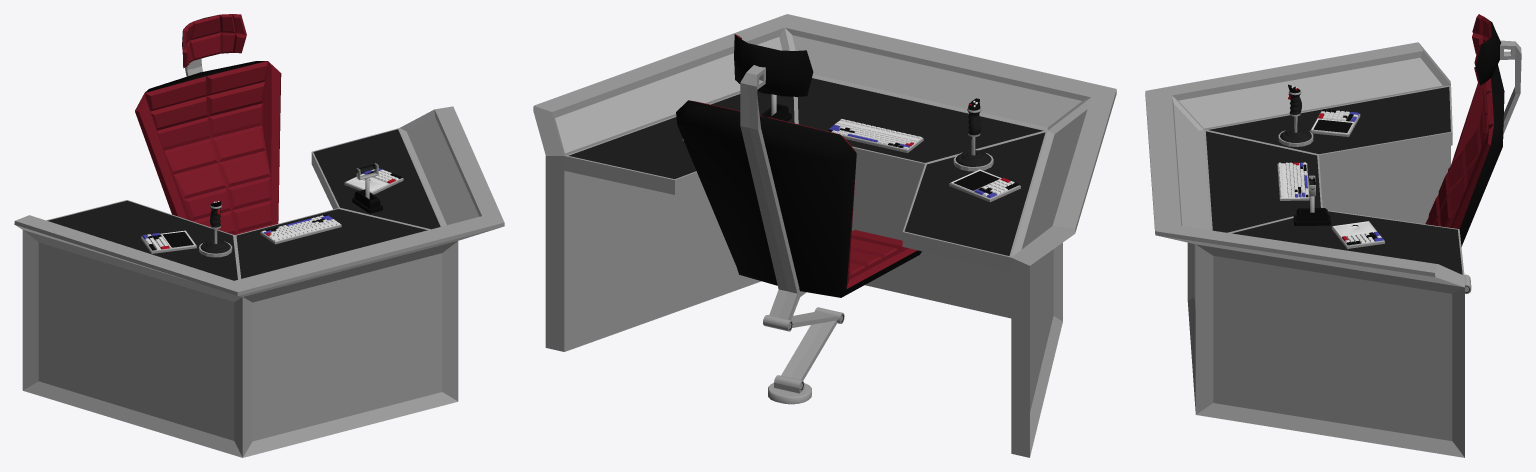
File: PilotSeat.glb
3 views of the same model, side by side, from view 1: azimuth 30°, elevation 25°; view 2: azimuth 150°, elevation 25°; view 3: azimuth 270°, elevation 25° (orthographic). The views are drawn at different scales.
Visible parts, largest first — view 1: Table, Chair, Keyboard_big, Keyboard_small_touchpad, Joystik, Throttle, Keyboard_small_trackball; view 2: Table, Chair, Keyboard_big, Keyboard_small_touchpad, Joystik; view 3: Table, Chair, Keyboard_big, Keyboard_small_touchpad, Keyboard_small_trackball, Joystik, Throttle.
Part boxes in pixels (x1=…): Table: x1=14, y1=106, x2=504, y2=457; Chair: x1=135, y1=14, x2=281, y2=234; Keyboard_big: x1=260, y1=214, x2=341, y2=244; Keyboard_small_touchpad: x1=141, y1=230, x2=196, y2=253; Joystik: x1=199, y1=200, x2=232, y2=257; Throttle: x1=352, y1=163, x2=382, y2=213; Keyboard_small_trackball: x1=344, y1=168, x2=403, y2=194; Table: x1=533, y1=14, x2=1116, y2=457; Chair: x1=676, y1=34, x2=921, y2=404; Keyboard_big: x1=827, y1=119, x2=923, y2=152; Keyboard_small_touchpad: x1=949, y1=169, x2=1020, y2=202; Joystik: x1=953, y1=98, x2=993, y2=171; Table: x1=1145, y1=42, x2=1464, y2=457; Chair: x1=1425, y1=14, x2=1521, y2=293; Keyboard_big: x1=1277, y1=162, x2=1309, y2=200; Keyboard_small_touchpad: x1=1310, y1=109, x2=1360, y2=136; Keyboard_small_trackball: x1=1331, y1=221, x2=1384, y2=248; Joystik: x1=1278, y1=84, x2=1313, y2=146; Throttle: x1=1293, y1=175, x2=1330, y2=225.
Bounding box in the file's own units: 2.15 × 1.42 × 1.48.
